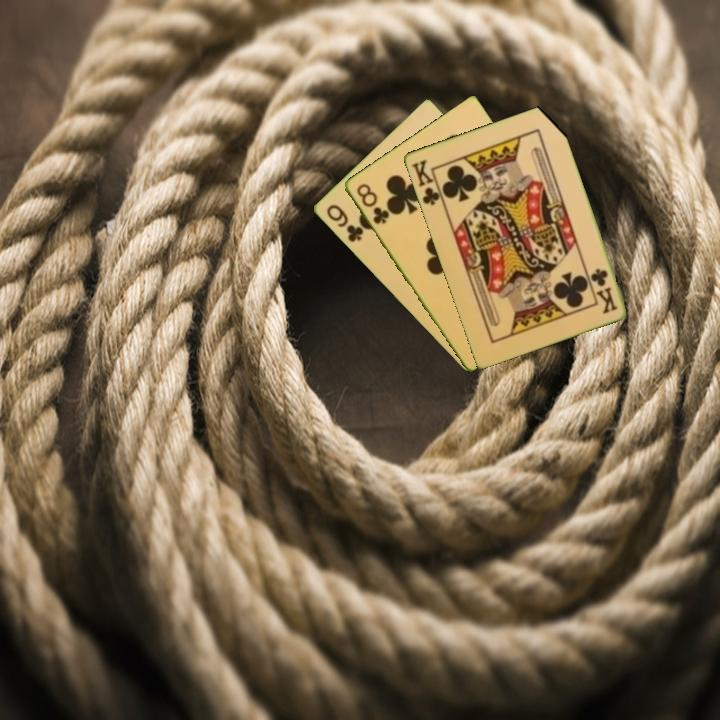8c: (353, 180, 392, 227)
9c: (322, 201, 366, 245)
Kc: (408, 156, 446, 208), (587, 265, 620, 316)
